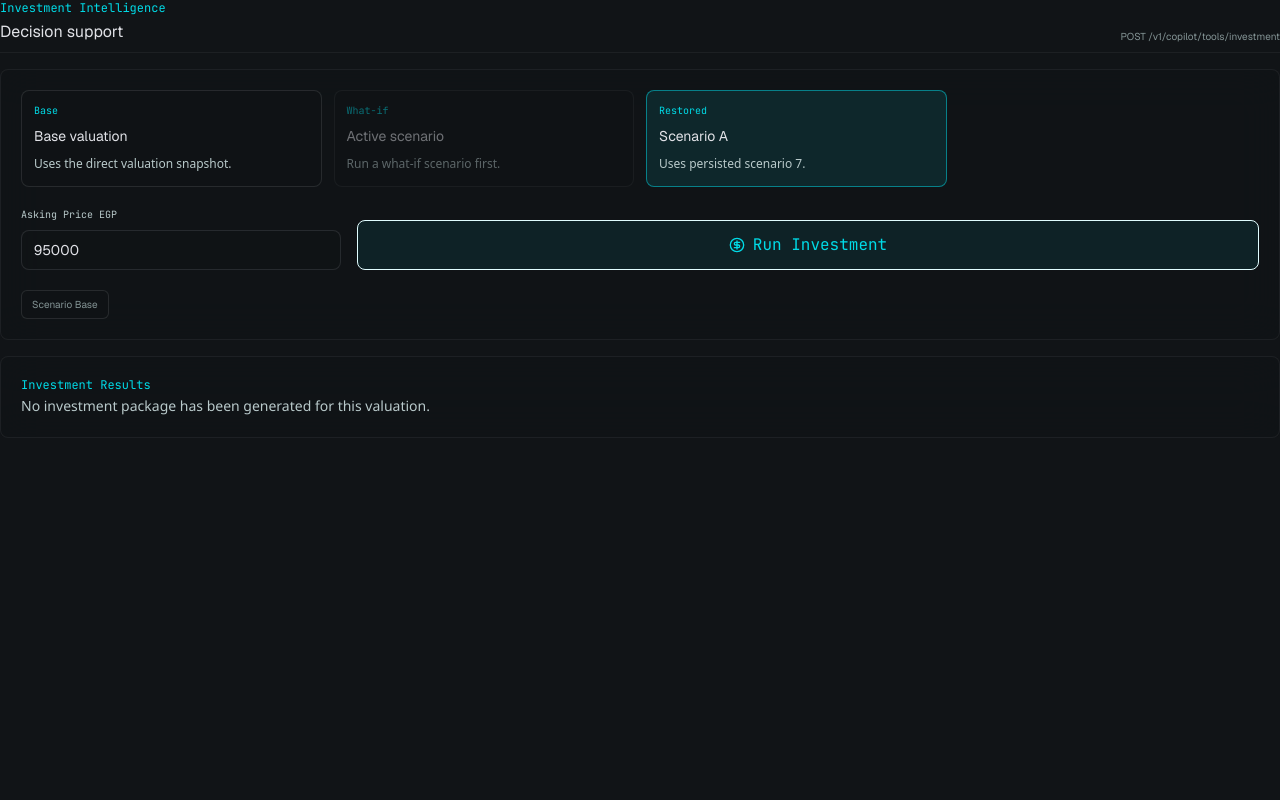
Test: InvestmentIntelligencePanel › runs investment analysis on the selected restored scenario with scenario_id
This screenshot has width=1280, height=800.
Click the button "Restored Scenario A Uses persisted scenario 7.": click(683, 110) x1=646 y1=90 x2=946 y2=187
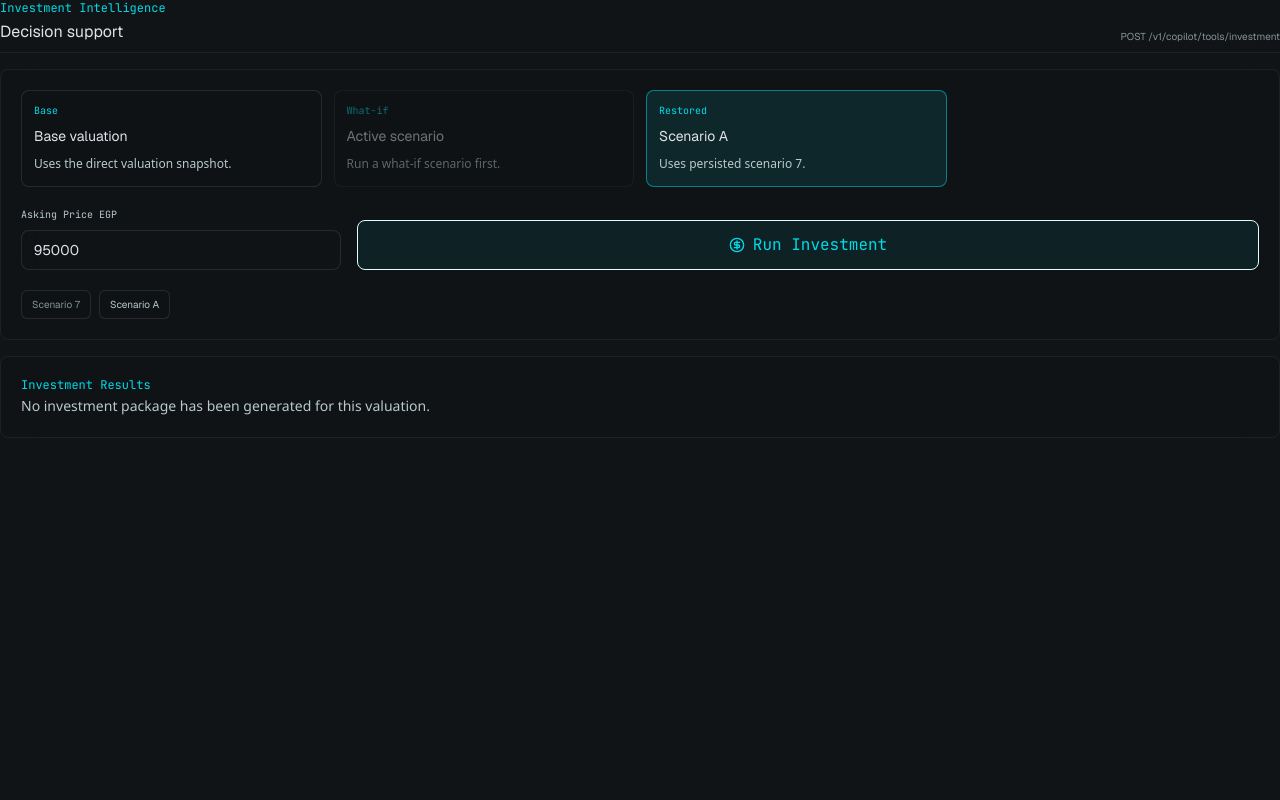
Replace the text in the number field named "investment asking price" with "110000": (181, 250) x1=21 y1=230 x2=341 y2=270
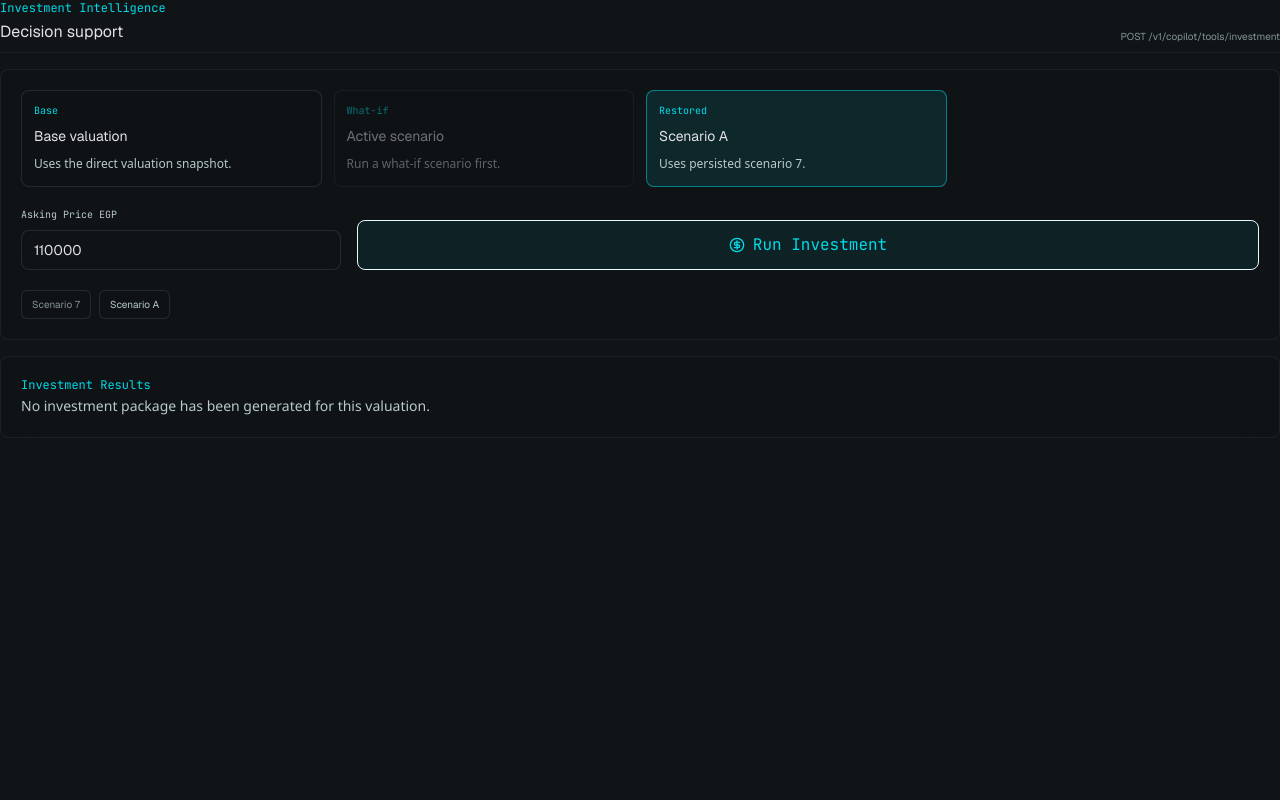
Click the button "Run Investment": click(808, 245) x1=357 y1=220 x2=1259 y2=270
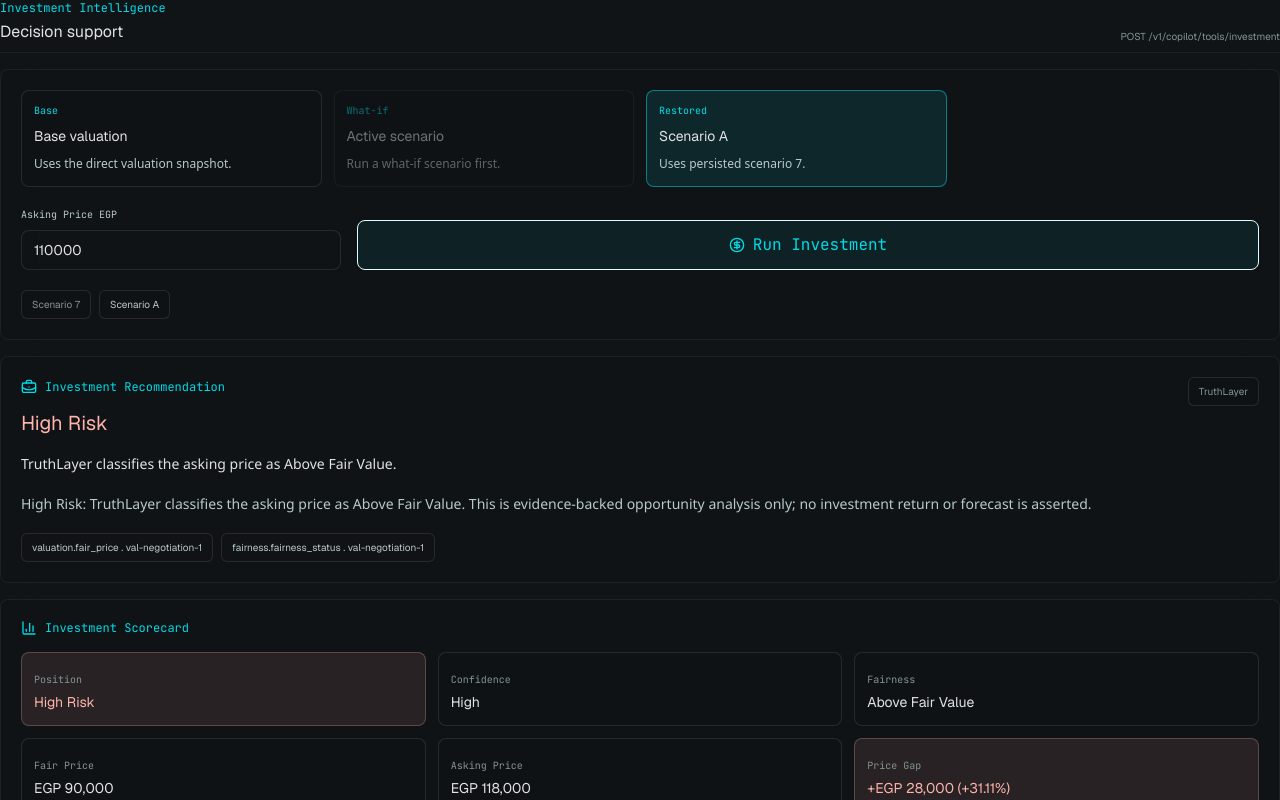
Check: the text "High Risk" below "Investment Recommendation" is shown, box x1=21 y1=410 x2=108 y2=436
